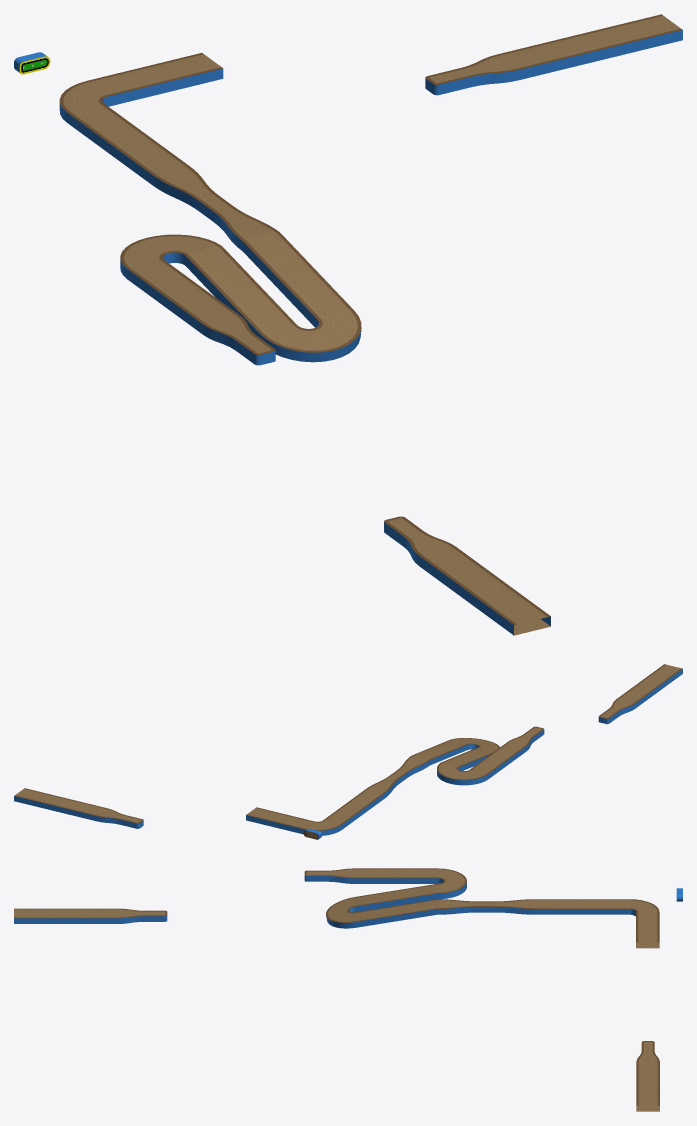
The model's file is ramp_9.FBX.
The picture shows the model from 3 angles, top to bottom: view 1: azimuth 30°, elevation 25°; view 2: azimuth 150°, elevation 25°; view 3: azimuth 270°, elevation 25°; orthographic projection. The views are drawn at different scales.
Parts seen in each view (by area): view 1: ramp_9; view 2: ramp_9; view 3: ramp_9.
Boxes of the visible parts, x1,y1,x2,y2 form: ramp_9: [14, 14, 682, 635]; ramp_9: [14, 664, 682, 839]; ramp_9: [14, 868, 682, 1111].
Bounding box in the file's own units: 8963 × 1204 × 12864.
